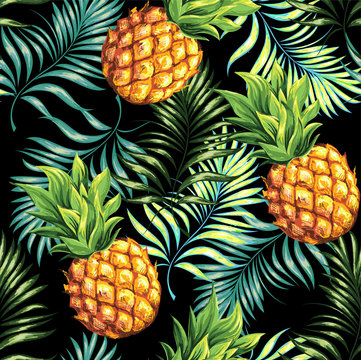Pineapple: (216, 65, 360, 247), (15, 160, 159, 339), (101, 1, 262, 105)
